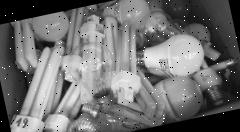lightbulb: (0, 0, 240, 132), (64, 36, 120, 102), (140, 30, 208, 84), (151, 71, 206, 125), (30, 10, 72, 45), (162, 0, 193, 22)
